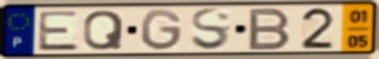2: (299, 6, 337, 52)
B: (246, 6, 293, 52)
E: (36, 9, 82, 52)
G: (139, 7, 185, 52)
Q: (81, 9, 126, 52)
S: (189, 6, 232, 52)
